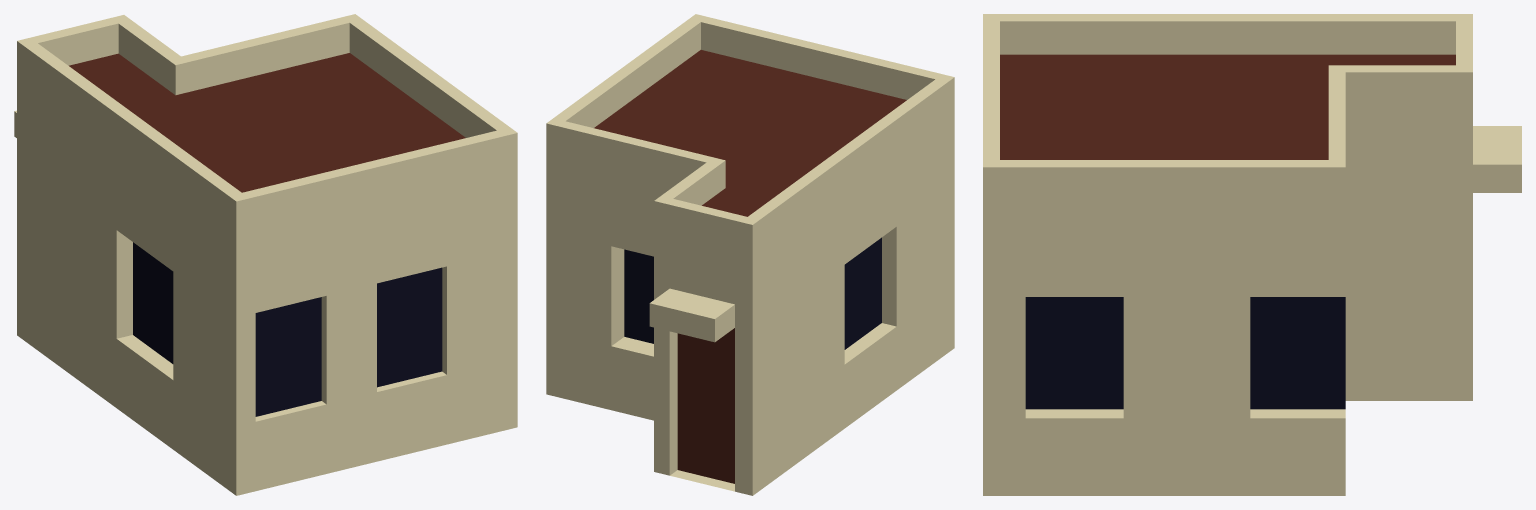
Rendered from Casita.fbx.
3 views of the same model, side by side, from view 1: azimuth 30°, elevation 25°; view 2: azimuth 150°, elevation 25°; view 3: azimuth 270°, elevation 25° (orthographic). The views are drawn at different scales.
Visible parts, largest first — view 1: Cube; view 2: Cube; view 3: Cube.
Boxes of the visible parts, box(x1,y1,x2,y2) form: Cube: box(14, 14, 517, 495); Cube: box(546, 14, 954, 495); Cube: box(983, 14, 1521, 495).
Size of the model in its own units: 8.2 by 8.2 by 12.19.
